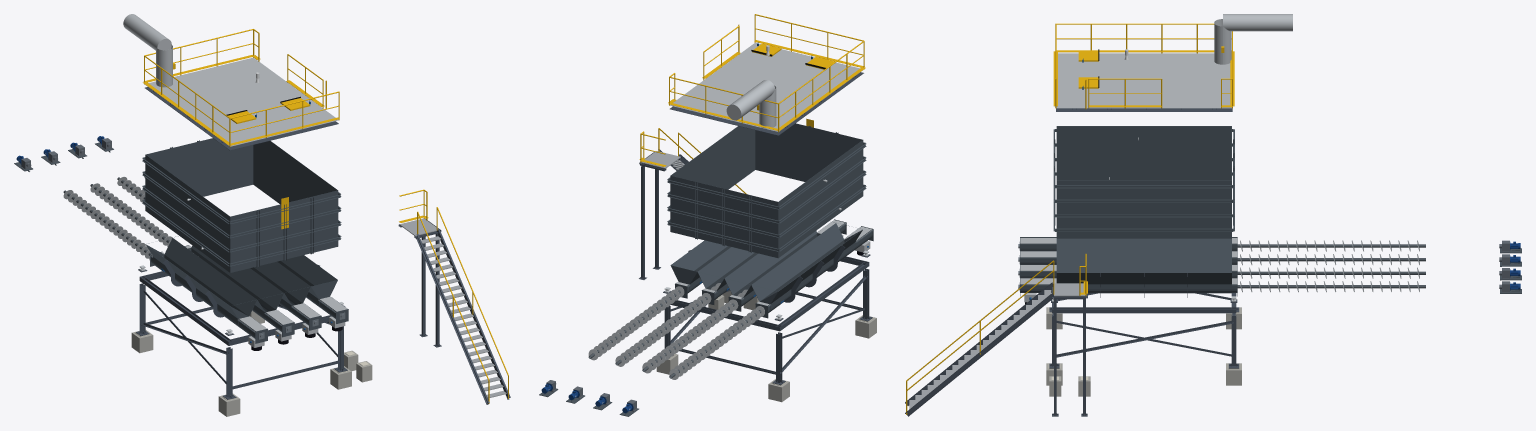
3 views of the same model, side by side, from view 1: azimuth 30°, elevation 25°; view 2: azimuth 150°, elevation 25°; view 3: azimuth 270°, elevation 25° (orthographic). The views are drawn at different scales.
Visible parts, largest first — view 1: TP-01 Tapa de chapa semilla de melón 6,35 mm#246, TP-01 Fondo en W de chapa 8 mm con 4 artesas#26, TP-01 Pared de chapa 8 mm F-24#0, TP-01 Pared de chapa 8 mm F-24#1, TP-01 Pared de chapa 8 mm F-24#2, TP-01 Pared de chapa 8 mm F-24#3, TP-01 Caño rígido#254, TP-01 Aro superior L 80#240, TP-01 Zanca de escalera#378, TP-01 Viga de apoyo HEB 160#261, TP-01 Zanca de escalera#373, TP-01 Boca de aspiración Ø600 (a M23 y biofiltro)#253; view 2: TP-01 Fondo en W de chapa 8 mm con 4 artesas#26, TP-01 Tapa de chapa semilla de melón 6,35 mm#246, TP-01 Pared de chapa 8 mm F-24#1, TP-01 Pared de chapa 8 mm F-24#0, TP-01 Pared de chapa 8 mm F-24#2, TP-01 Pared de chapa 8 mm F-24#3, TP-01 Caño rígido#254, TP-01 Aro superior L 80#240, TP-01 Viga de apoyo HEB 160#261, TP-01 Boca de aspiración Ø600 (a M23 y biofiltro)#253, TP-01 Viga de apoyo HEB 160#260, TP-01 Cruz de San Andrés L 80#304 (+17 smaller); view 3: TP-01 Pared de chapa 8 mm F-24#2, TP-01 Fondo en W de chapa 8 mm con 4 artesas#26, TP-01 Tapa de chapa semilla de melón 6,35 mm#246, TP-01 Pared de chapa 8 mm F-24#3, TP-01 Viga de apoyo HEB 160#262, TP-01 Caño rígido#254, TP-01 Zanca de escalera#373, TP-01 Tubo central del sinfín Ø114#44, TP-01 Tubo central del sinfín Ø114#148, TP-01 Tubo central del sinfín Ø114#96, TP-01 Tubo central del sinfín Ø114#200, TP-01 Rigidizador UPN 100#7 (+7 smaller).
Part boxes in pixels (<box>): TP-01 Tapa de chapa semilla de melón 6,35 mm#246: <box>148,57,338,146</box>; TP-01 Fondo en W de chapa 8 mm con 4 artesas#26: <box>145,237,337,327</box>; TP-01 Pared de chapa 8 mm F-24#0: <box>230,190,338,272</box>; TP-01 Pared de chapa 8 mm F-24#1: <box>146,138,253,196</box>; TP-01 Pared de chapa 8 mm F-24#2: <box>145,154,230,272</box>; TP-01 Pared de chapa 8 mm F-24#3: <box>253,140,337,204</box>; TP-01 Caño rígido#254: <box>123,14,171,50</box>; TP-01 Aro superior L 80#240: <box>145,87,338,150</box>; TP-01 Zanca de escalera#378: <box>415,234,489,404</box>; TP-01 Viga de apoyo HEB 160#261: <box>139,276,231,345</box>; TP-01 Zanca de escalera#373: <box>436,229,510,399</box>; TP-01 Boca de aspiración Ø600 (a M23 y biofiltro)#253: <box>156,45,172,87</box>; TP-01 Fondo en W de chapa 8 mm con 4 artesas#26: <box>671,223,862,312</box>; TP-01 Tapa de chapa semilla de melón 6,35 mm#246: <box>670,43,862,131</box>; TP-01 Pared de chapa 8 mm F-24#1: <box>670,175,778,258</box>; TP-01 Pared de chapa 8 mm F-24#0: <box>755,123,862,181</box>; TP-01 Pared de chapa 8 mm F-24#2: <box>778,140,863,257</box>; TP-01 Pared de chapa 8 mm F-24#3: <box>671,126,755,189</box>; TP-01 Caño rígido#254: <box>726,80,775,120</box>; TP-01 Aro superior L 80#240: <box>670,72,863,135</box>; TP-01 Viga de apoyo HEB 160#261: <box>776,261,868,330</box>; TP-01 Boca de aspiración Ø600 (a M23 y biofiltro)#253: <box>759,85,776,128</box>; TP-01 Viga de apoyo HEB 160#260: <box>670,300,781,331</box>; TP-01 Cruz de San Andrés L 80#304: <box>780,275,867,373</box>; TP-01 Pared de chapa 8 mm F-24#2: <box>1056,126,1231,180</box>; TP-01 Fondo en W de chapa 8 mm con 4 artesas#26: <box>1056,238,1231,293</box>; TP-01 Tapa de chapa semilla de melón 6,35 mm#246: <box>1056,53,1231,108</box>; TP-01 Pared de chapa 8 mm F-24#3: <box>1056,180,1231,238</box>; TP-01 Viga de apoyo HEB 160#262: <box>1052,307,1236,313</box>; TP-01 Caño rígido#254: <box>1223,14,1292,31</box>; TP-01 Zanca de escalera#373: <box>905,293,1055,416</box>; TP-01 Tubo central del sinfín Ø114#44: <box>1237,244,1425,247</box>; TP-01 Tubo central del sinfín Ø114#148: <box>1237,271,1425,274</box>; TP-01 Tubo central del sinfín Ø114#96: <box>1237,258,1425,261</box>; TP-01 Tubo central del sinfín Ø114#200: <box>1237,285,1425,288</box>; TP-01 Rigidizador UPN 100#7: <box>1055,228,1233,231</box>.
Size of the model in its own units: 8.94 by 12.1 by 21.17.
